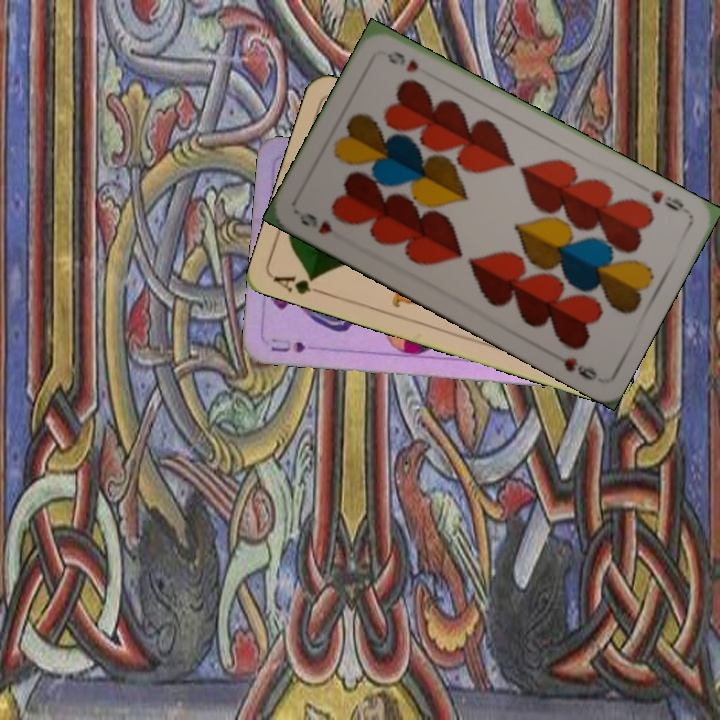GA: (270, 271, 329, 298)
H9: (295, 208, 336, 237), (646, 186, 687, 214)
SU: (267, 334, 308, 356)
